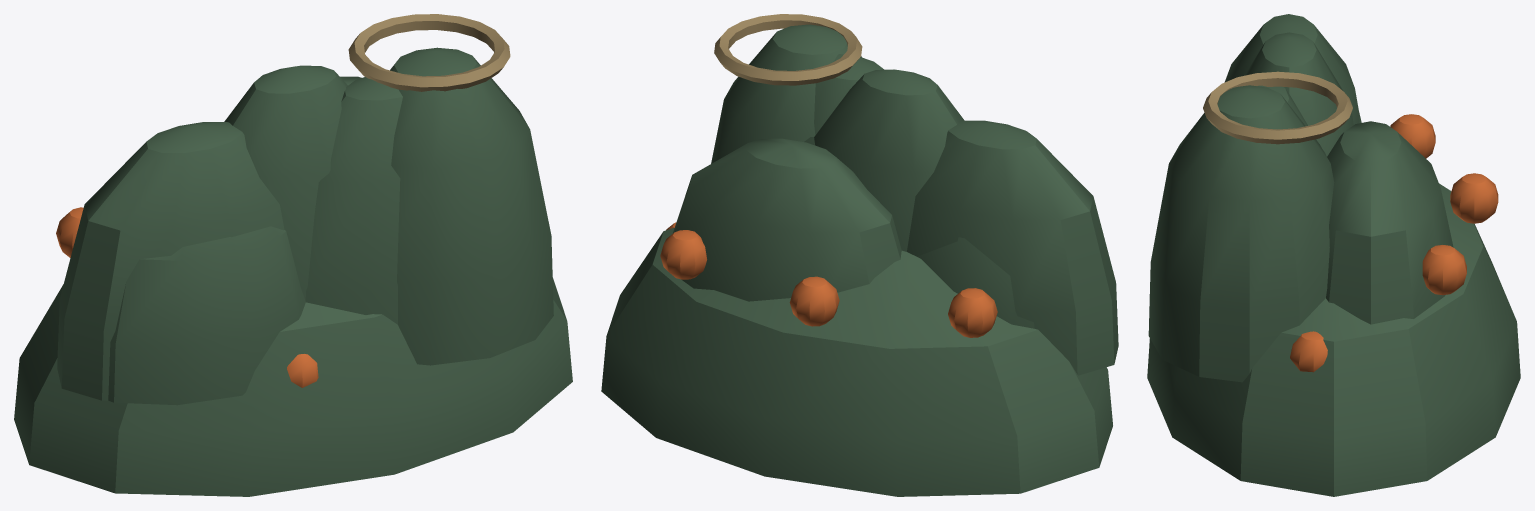
File: prop_net_pile.glb
3 views of the same model, side by side, from view 1: azimuth 30°, elevation 25°; view 2: azimuth 150°, elevation 25°; view 3: azimuth 270°, elevation 25° (orthographic). The views are drawn at different scales.
Parts seen in each view (by area): view 1: Nets; view 2: Nets; view 3: Nets.
Boxes of the visible parts, x1,y1,x2,y2 form: Nets: [14, 14, 572, 496]; Nets: [601, 14, 1118, 496]; Nets: [1147, 14, 1520, 496].
Size of what is drawn, in the model's own units: 1.78 by 1.16 by 1.18.
